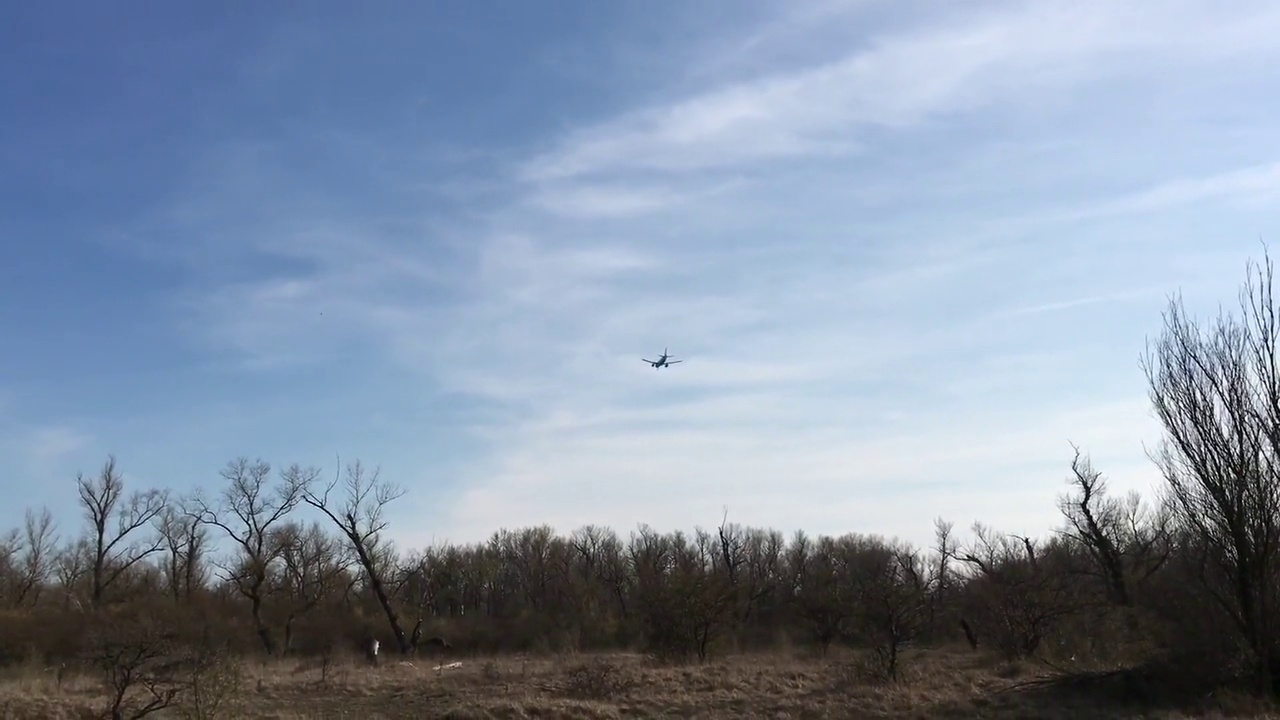plane: (641, 347, 683, 370)
